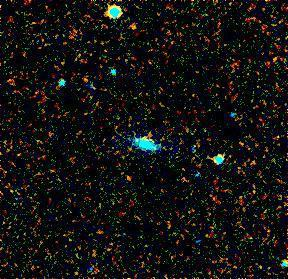star: (118, 10, 148, 40)
